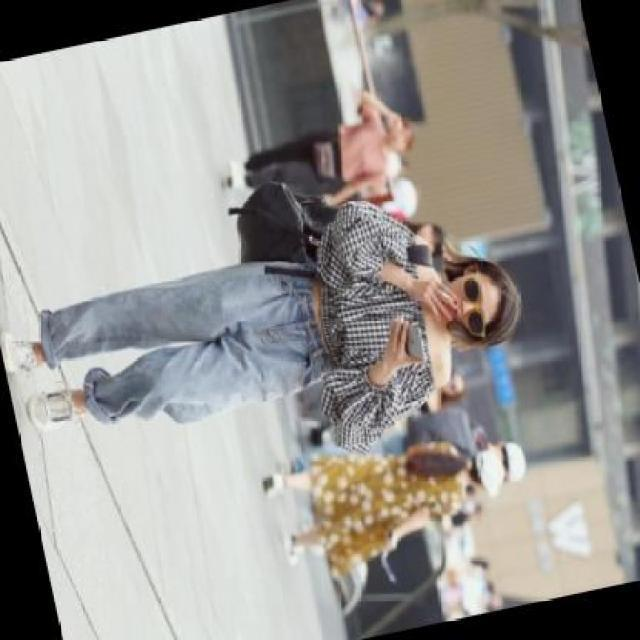rokok: (435, 288, 453, 306)
